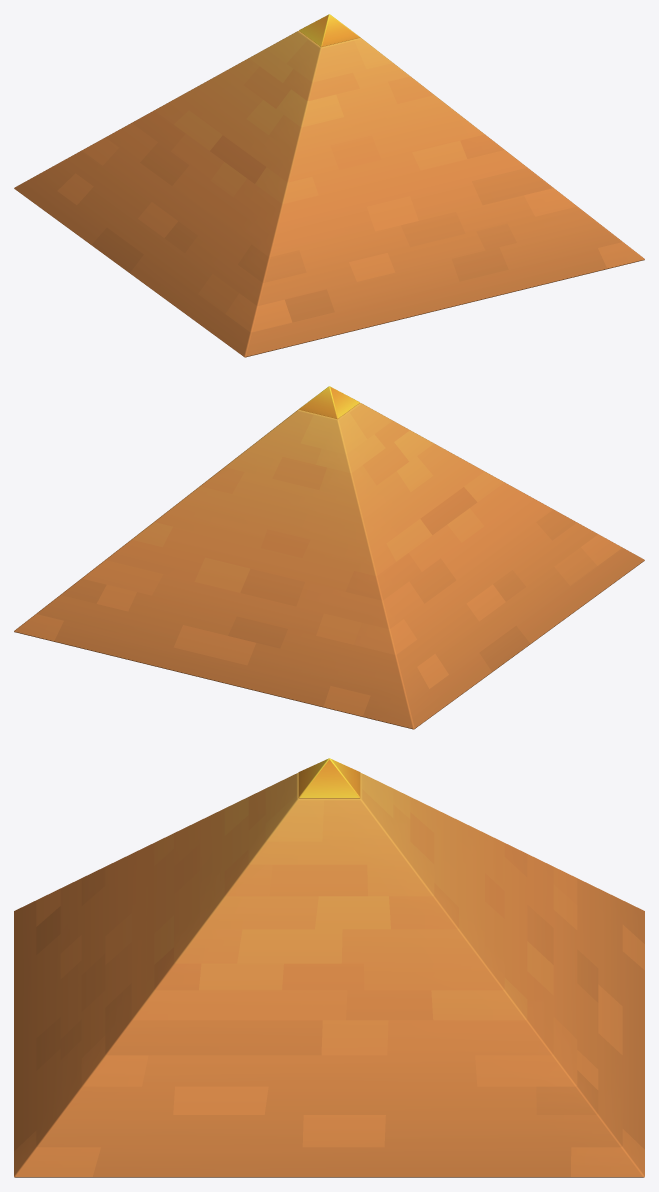
Rendered from pyramid_large.fbx.
The picture shows the model from 3 angles, top to bottom: view 1: azimuth 30°, elevation 25°; view 2: azimuth 150°, elevation 25°; view 3: azimuth 270°, elevation 25°; orthographic projection. The views are drawn at different scales.
Visible parts, largest first — view 1: pyramid_large; view 2: pyramid_large; view 3: pyramid_large.
Boxes of the visible parts, x1,y1,x2,y2 form: pyramid_large: (14, 14, 644, 357); pyramid_large: (14, 386, 644, 729); pyramid_large: (14, 758, 644, 1177).
Size of the model in its own units: 1993 by 997 by 1993.
